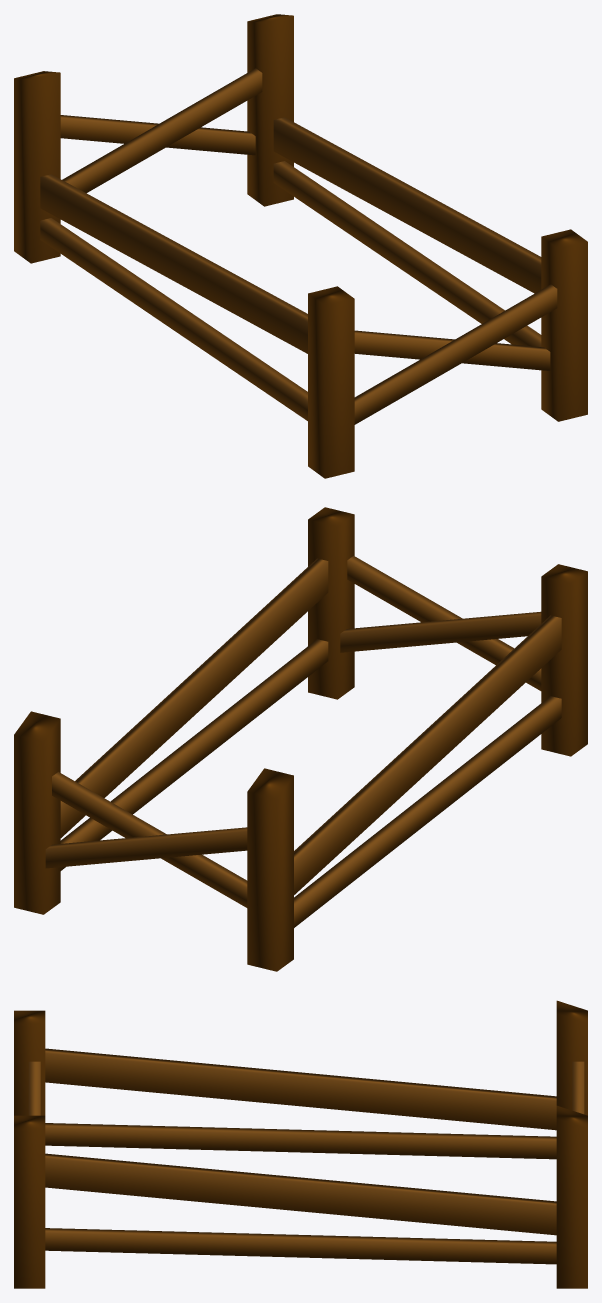
File: rampMidScaffolding.fbx
3 renders of one model, top to bottom at view 1: azimuth 30°, elevation 25°; view 2: azimuth 150°, elevation 25°; view 3: azimuth 270°, elevation 25°, orthographic. The views are drawn at different scales.
Parts seen in each view (by area): view 1: rampMidScaffolding; view 2: rampMidScaffolding; view 3: rampMidScaffolding.
Boxes of the visible parts, x1,y1,x2,y2 form: rampMidScaffolding: (14, 14, 587, 478); rampMidScaffolding: (14, 507, 587, 971); rampMidScaffolding: (14, 1000, 587, 1288).
Size of the model in its own units: 239 by 160 by 489.
